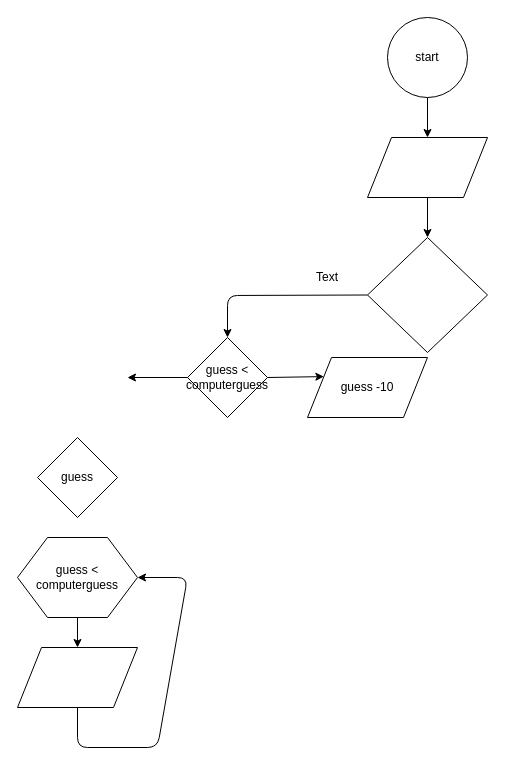
Image size: 505x773. Some labels were removed from this diagram. The shapes that lost their labels are listed below. From the top down, each one's box as (x1, y1, x2, y2) in pixels, then its label:
(366, 136, 488, 198): input guess
(366, 236, 488, 352): guess != computerguess
(16, 646, 138, 708): guess + 10
